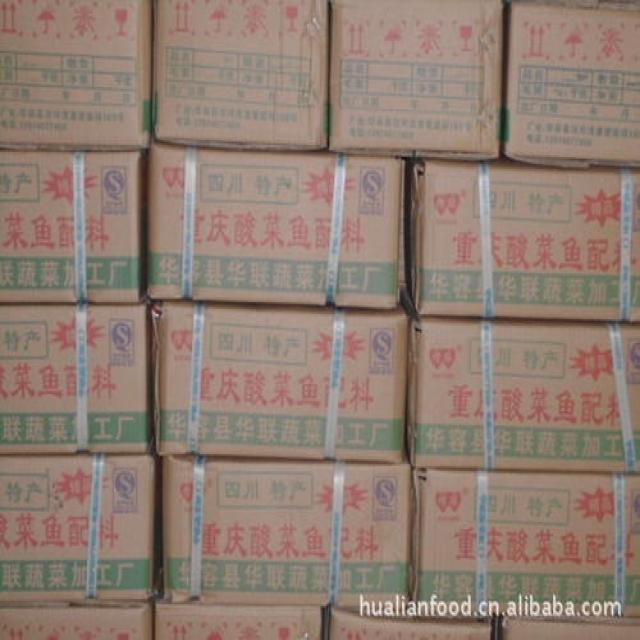box: (146, 146, 407, 307), (153, 306, 411, 466), (158, 454, 410, 616), (410, 156, 639, 328), (412, 471, 639, 623), (409, 322, 639, 471), (327, 3, 504, 161), (152, 3, 330, 149), (0, 450, 159, 606), (501, 3, 639, 172), (0, 305, 153, 457), (0, 3, 152, 152), (153, 604, 330, 638), (1, 603, 156, 638), (329, 610, 498, 638), (498, 623, 637, 638)
